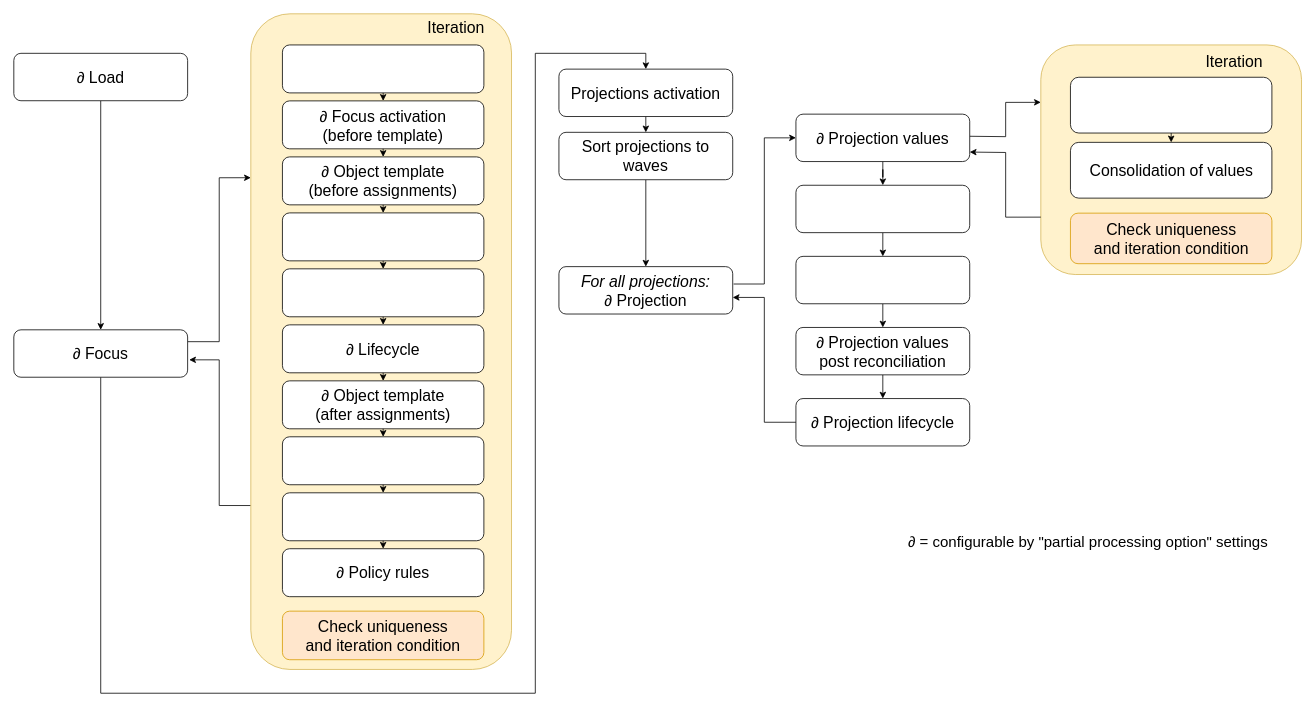
Image size: 1315x713. Some labels were removed from this diagram. The box of each missing label's shape, as (x1, y1, x2, y2) in pixels:
Outbound: (1070, 76, 1272, 133)
∂ Assignments: (282, 268, 484, 317)
∂ Credentials: (282, 492, 484, 541)
∂ Focus activation (after assignments): (282, 436, 484, 485)
∂ Focus activation (after template): (282, 212, 484, 261)
∂ Inbound (if loaded): (282, 44, 484, 93)
∂ Projection credentials: (795, 184, 970, 233)
∂ Projection reconciliation (if loaded): (795, 256, 970, 304)
